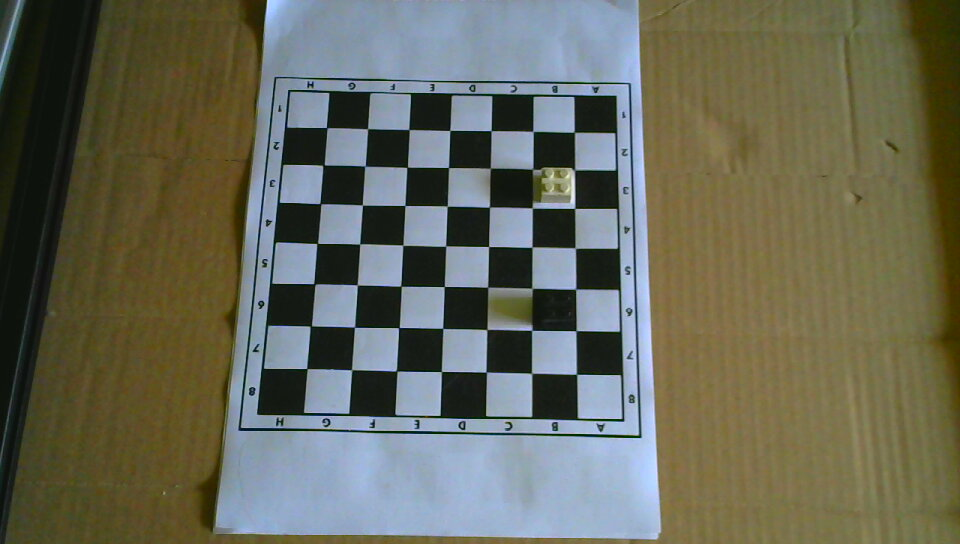bp: (536, 288, 575, 331)
wp: (536, 165, 575, 205)
